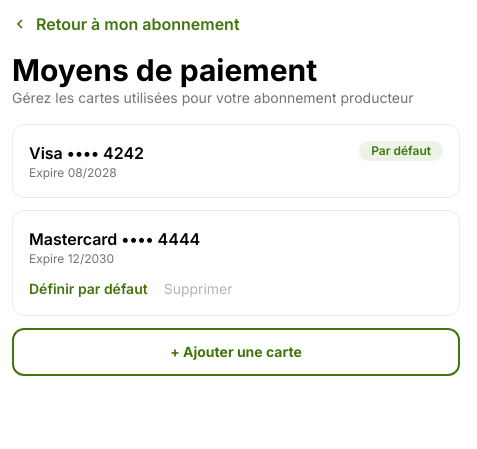
Scenario: PaymentMethodsComponent › supprime une carte après confirmation
The image size is (477, 449).
Click the button "Supprimer": [198, 289] box [164,279,233,299]
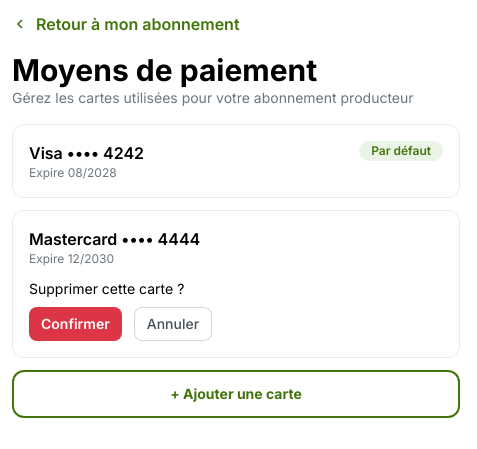
Check: the text "Supprimer cette carte ?" is shown, box [29,280,184,297]
Click the button "Confirmer": [75, 324] box [29,307,122,341]
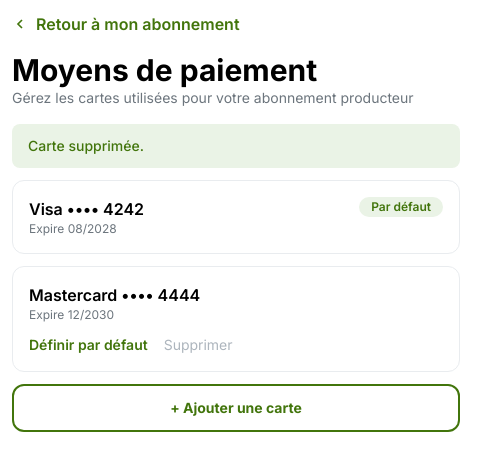
Check: the text "Carte supprimée." is shown, box [12,124,460,168]
